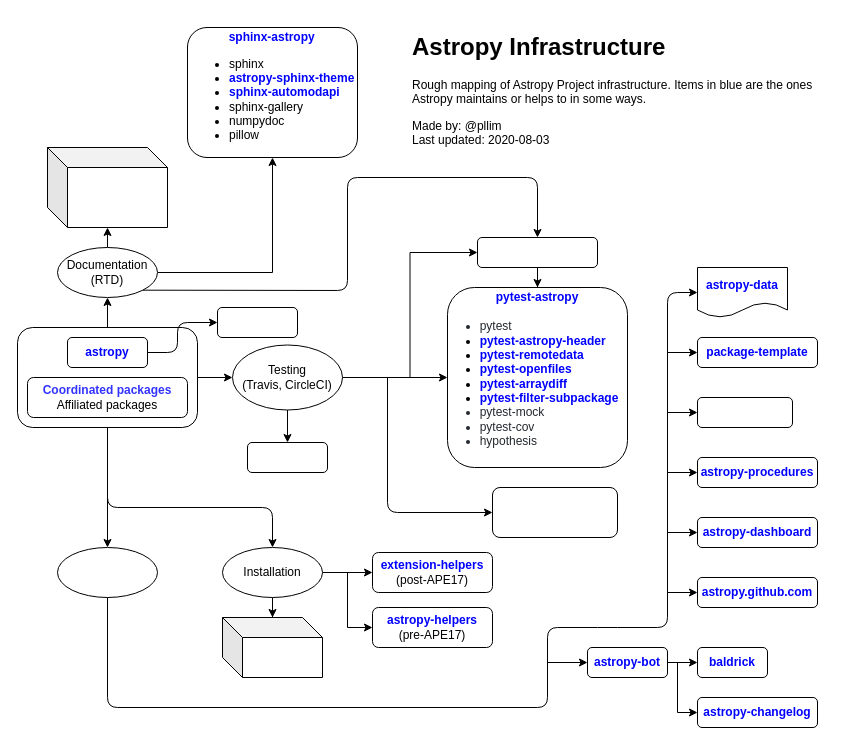
Image size: 845x745. Some labels were removed from this diagram. Here are the shapes that lost their labels. From the top down, the centre of each, then its label:
At (107,187): "learn (notebooks, website)".
At (537,252): "pytest-doctestplus".
At (257,322): "pyerfa".
At (744,412): "Benchmarks".
At (287,457): "ci-helpers".
At (555,512): "pytest-mpl pytest-xdist tox-pypi-filter".
At (107,572): "Others".
At (272,647): "Release extravaganza".
